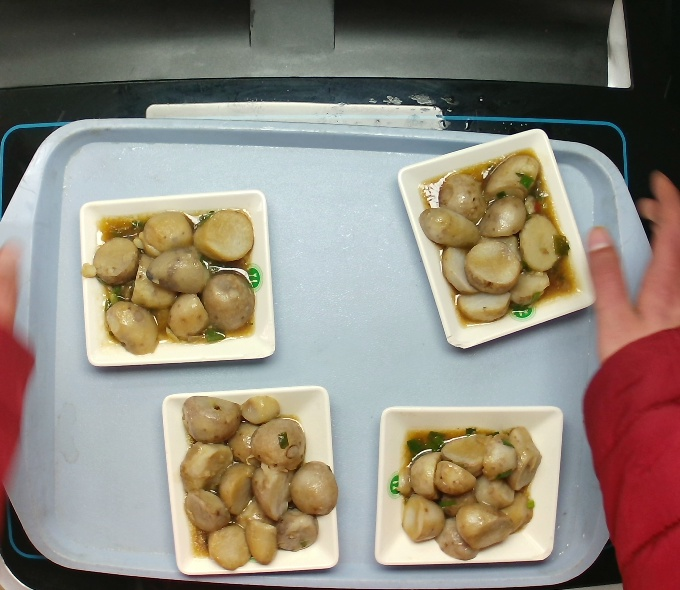wcq-YuTou: (414, 143, 587, 332), (174, 390, 341, 574), (75, 203, 261, 360), (392, 423, 546, 565)
